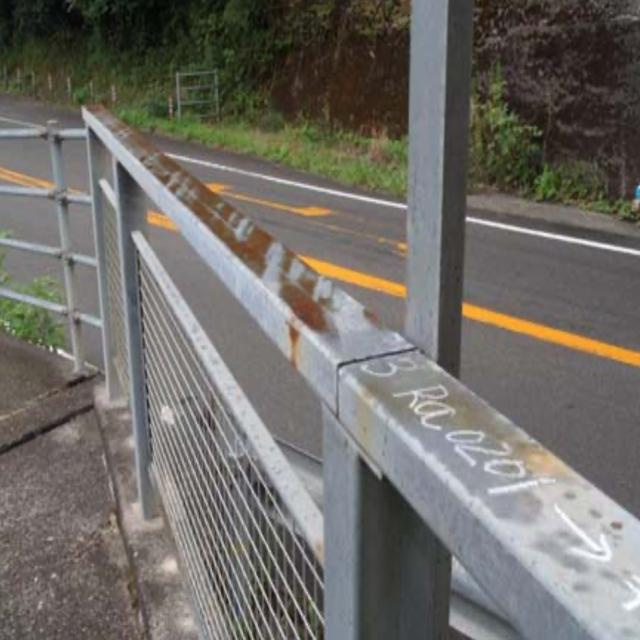corrosion: (108, 110, 336, 353)
